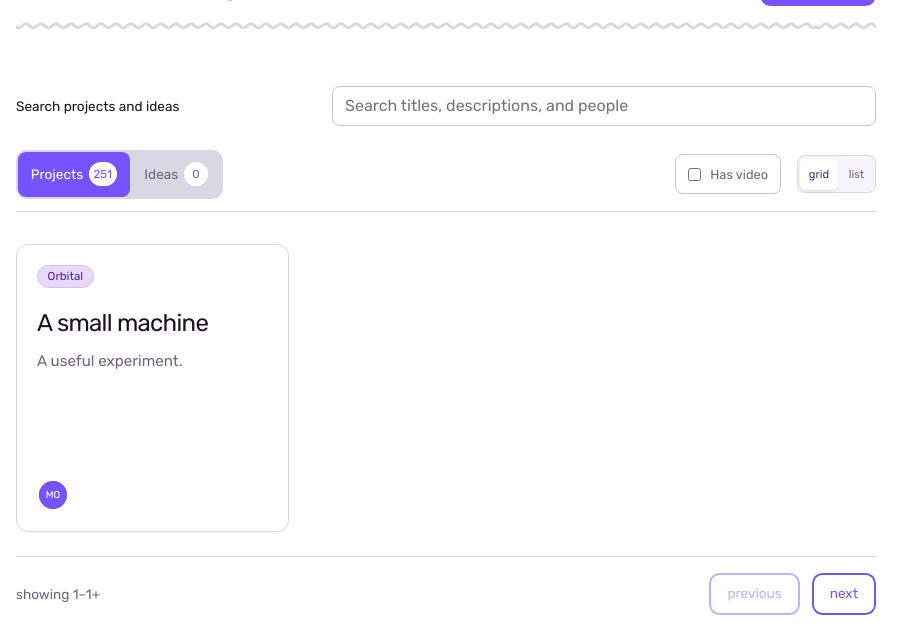
clickable project routes › keeps search focus when typing supersedes a pending page fetch
(page scrolled)
Expected: the heading "A small machine" is shown, [37,309,208,337]
Step 1. Click the button "next" → (844, 594), box [812,573,876,615]
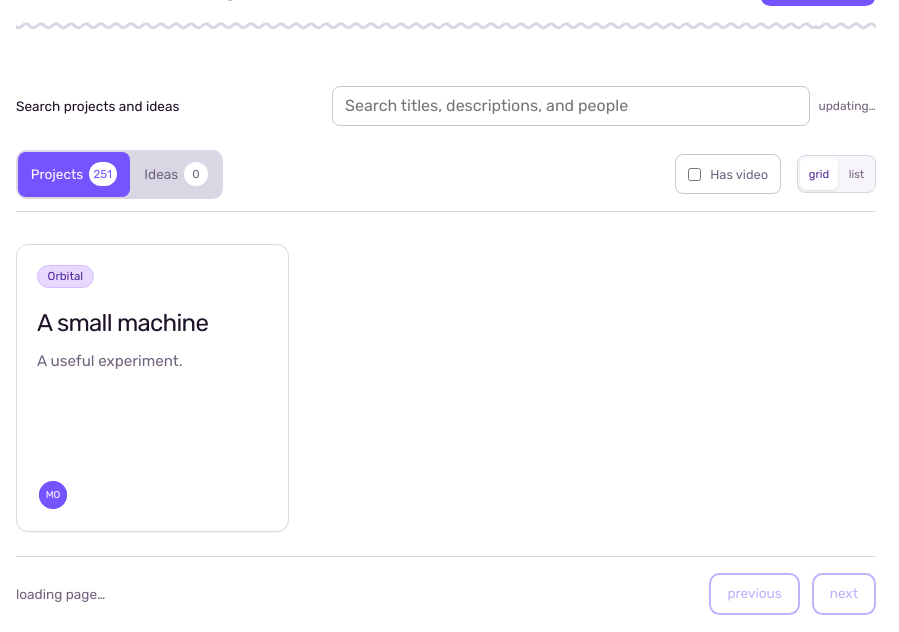
Step 2. Type "s" into the search field labelled "Search projects and ideas" → (571, 106), box [332,86,810,126]
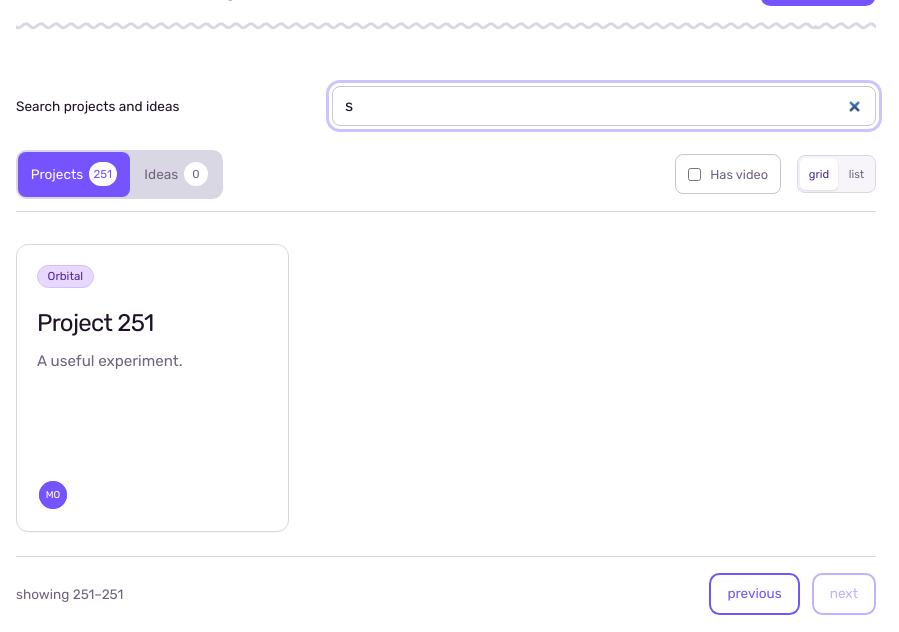
Expected: the heading "Project 251" is shown, [37,309,154,337]
